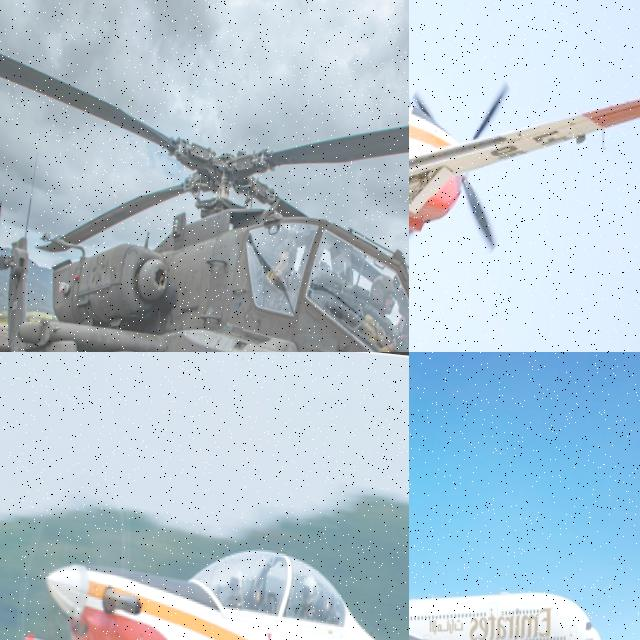A380: (409, 471, 617, 640)
Apache: (0, 23, 409, 352)
KT-1: (409, 0, 640, 275), (5, 508, 409, 640)
